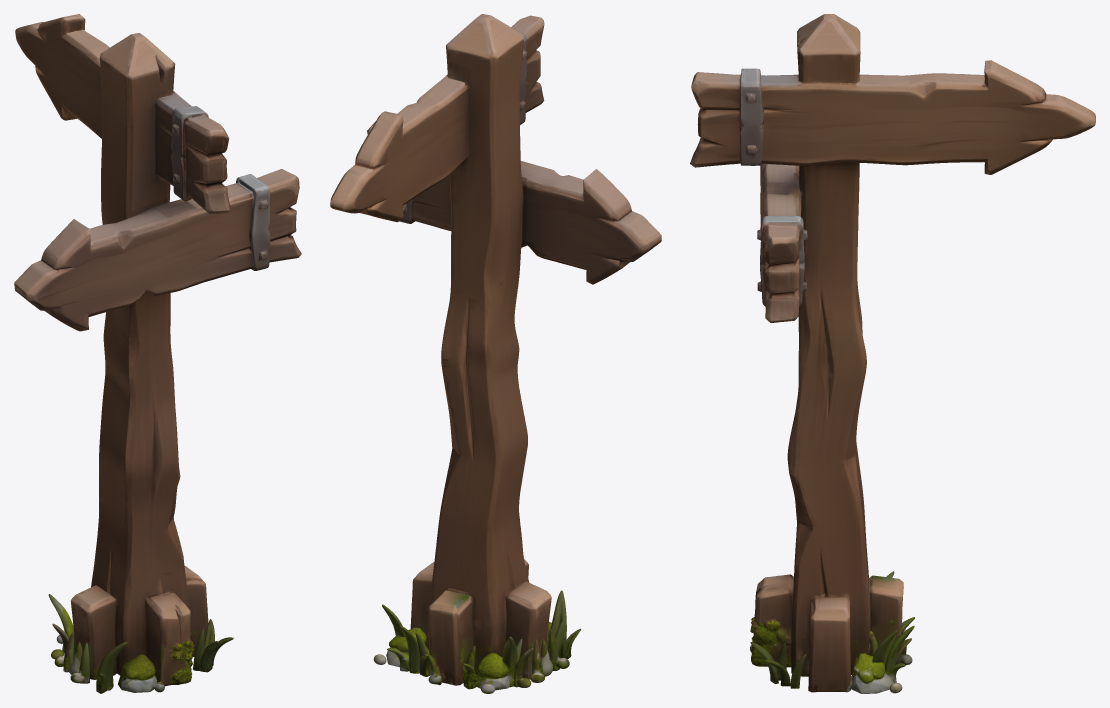
File: signpost-a.glb
The picture shows the model from 3 angles, left to right: view 1: azimuth 30°, elevation 25°; view 2: azimuth 150°, elevation 25°; view 3: azimuth 270°, elevation 25°; orthographic projection. The views are drawn at different scales.
Parts seen in each view (by area): view 1: node_0; view 2: node_0; view 3: node_0.
Boxes of the visible parts, left/top/right/bottom form: node_0: left=14, top=14, right=301, bottom=693; node_0: left=330, top=14, right=661, bottom=693; node_0: left=690, top=14, right=1095, bottom=693.
Size of the model in its own units: 0.5175 by 1.12 by 0.637.
Materials: 1 (1 with a texture image).
